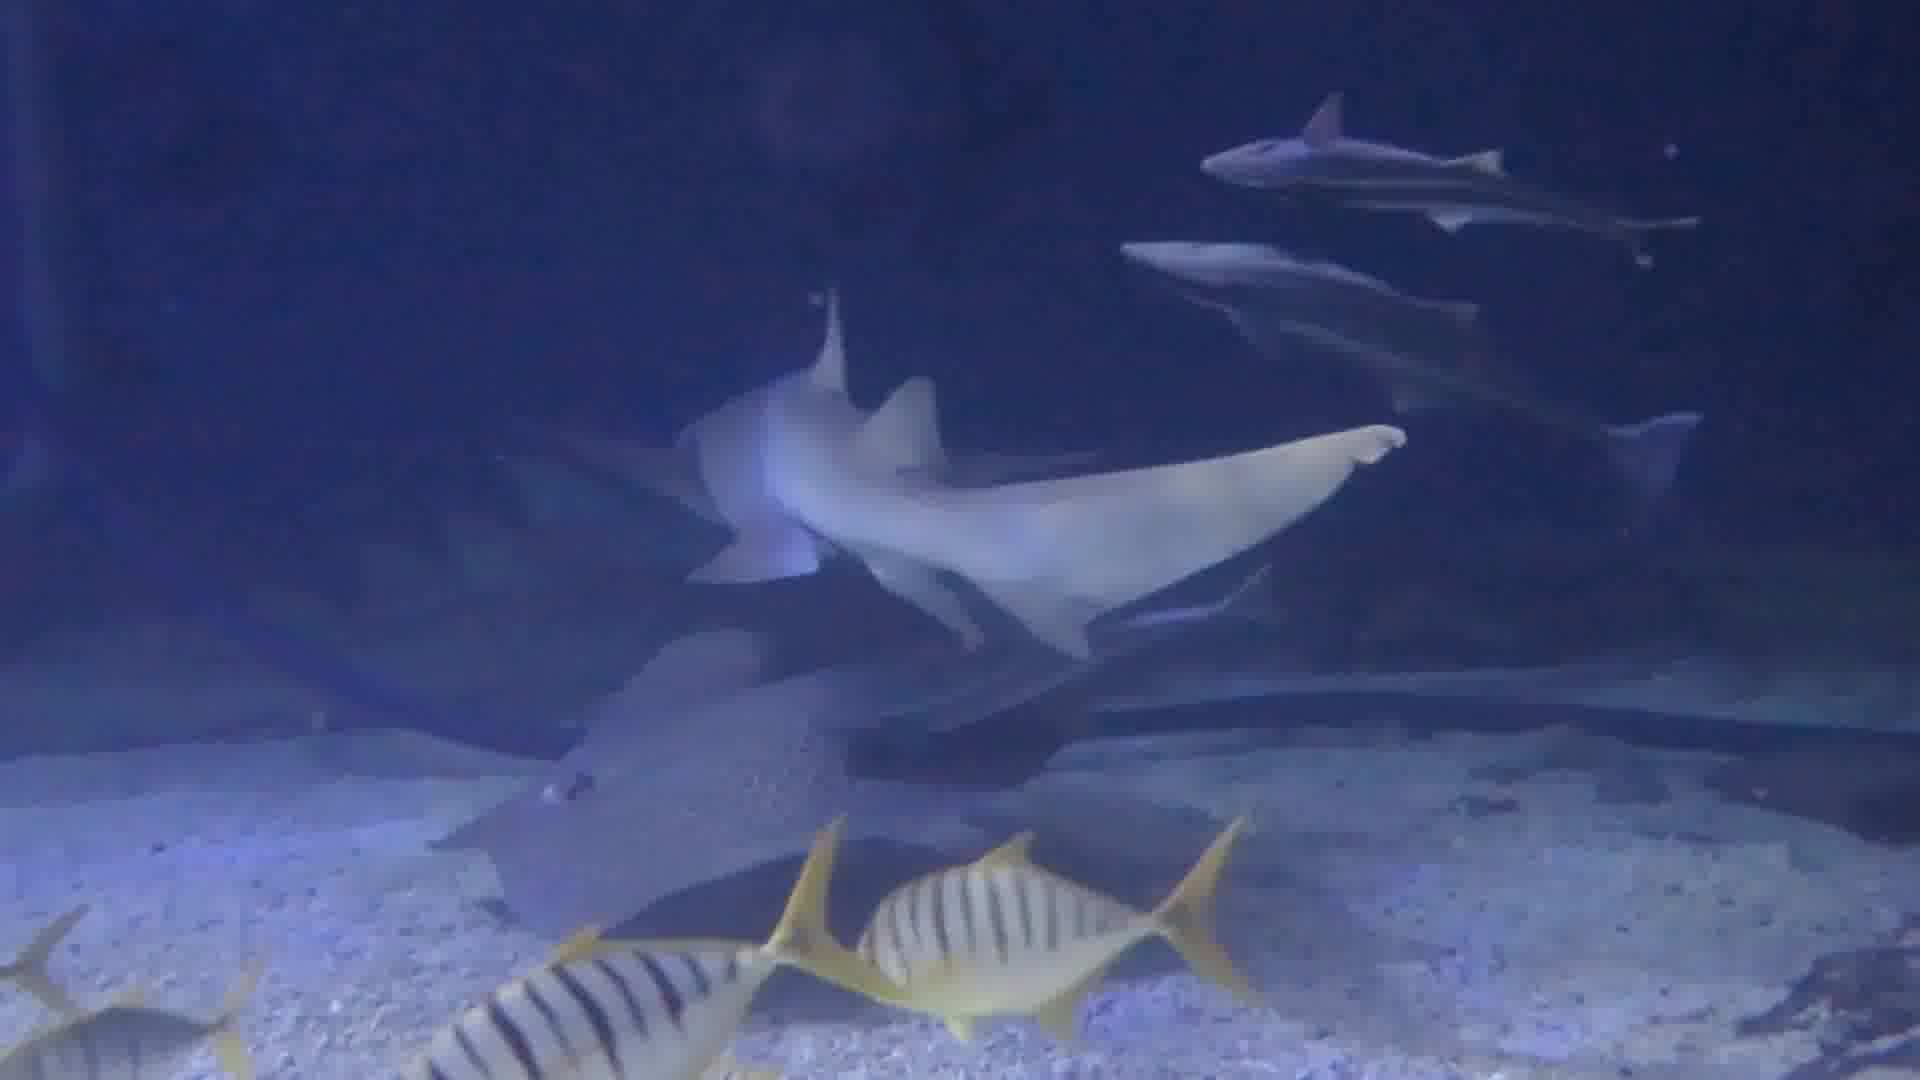Nebrius ferrugineus: (680, 367, 1166, 649)
